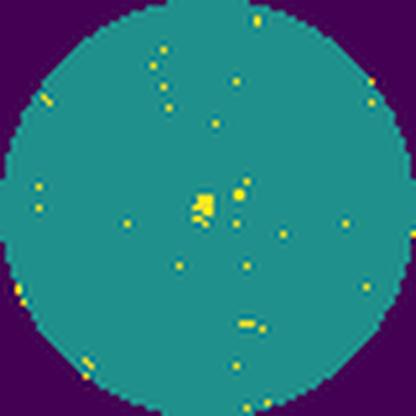Center: (192, 192, 216, 220)
